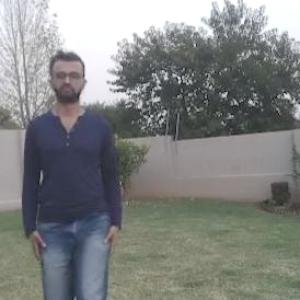follow: (29, 57, 116, 299)
